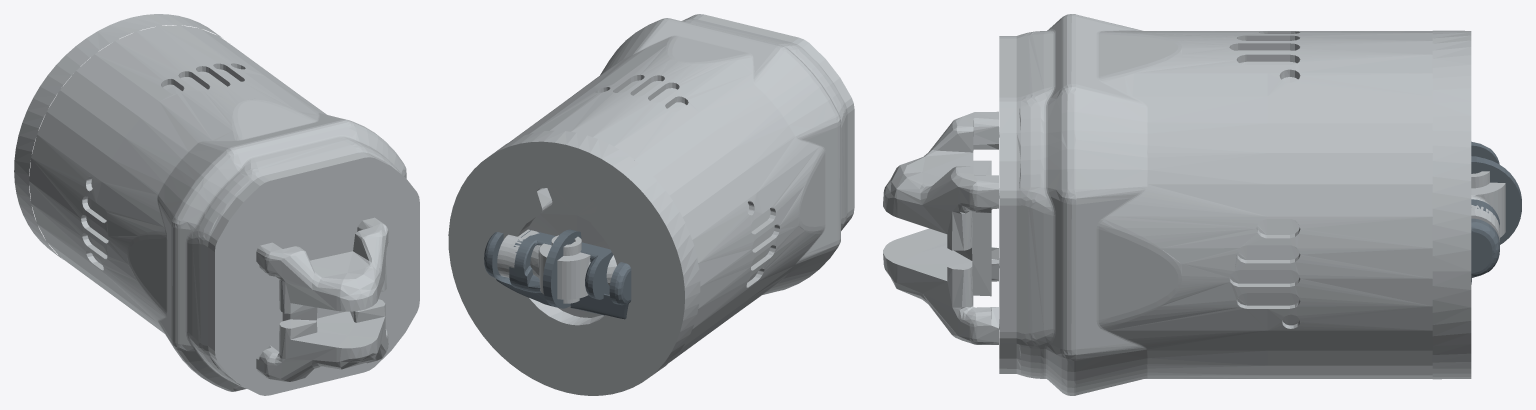
File: robot.glb
3 views of the same model, side by side, from view 1: azimuth 30°, elevation 25°; view 2: azimuth 150°, elevation 25°; view 3: azimuth 270°, elevation 25° (orthographic). The views are drawn at different scales.
Parts seen in each view (by area): view 1: robot_link_0; view 2: robot_link_0, robot_link_2, robot_link_1, robot_link_15; view 3: robot_link_0, robot_link_2, robot_link_1.
Boxes of the visible parts, x1,y1,x2,y2 form: robot_link_0: (14, 14, 419, 395); robot_link_0: (448, 14, 854, 395); robot_link_2: (484, 229, 631, 319); robot_link_1: (530, 235, 616, 303); robot_link_15: (497, 229, 539, 277); robot_link_0: (883, 14, 1471, 395); robot_link_2: (1471, 141, 1521, 284); robot_link_1: (1471, 171, 1505, 237).
Bounding box in the file's own units: 0.135 × 0.1351 × 0.2476.
